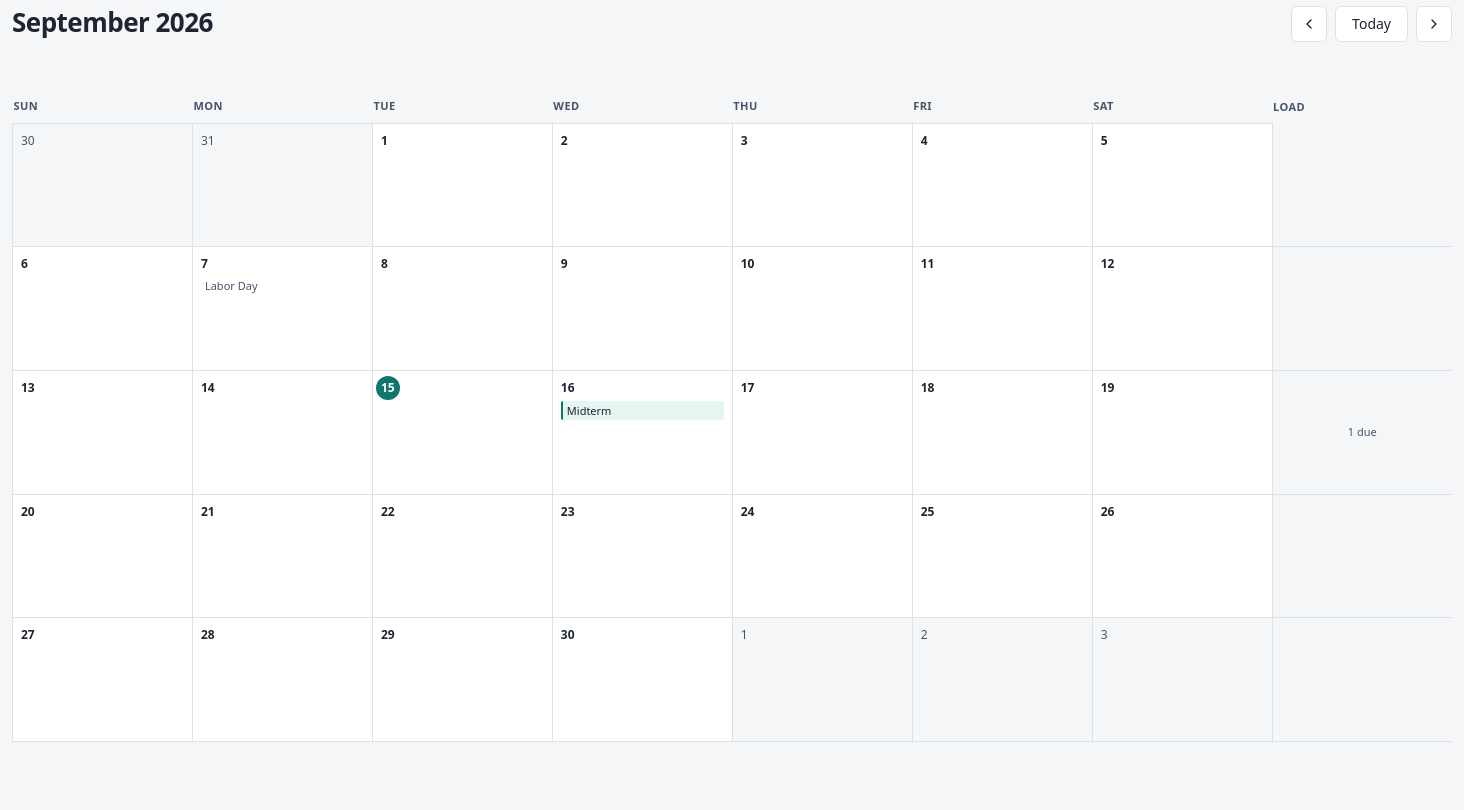
Test: AC-21.3 moving to the next month shows that month and its items
The width and height of the screenshot is (1464, 810).
Click the button named "next month": (1434, 24) [1416,6,1452,42]
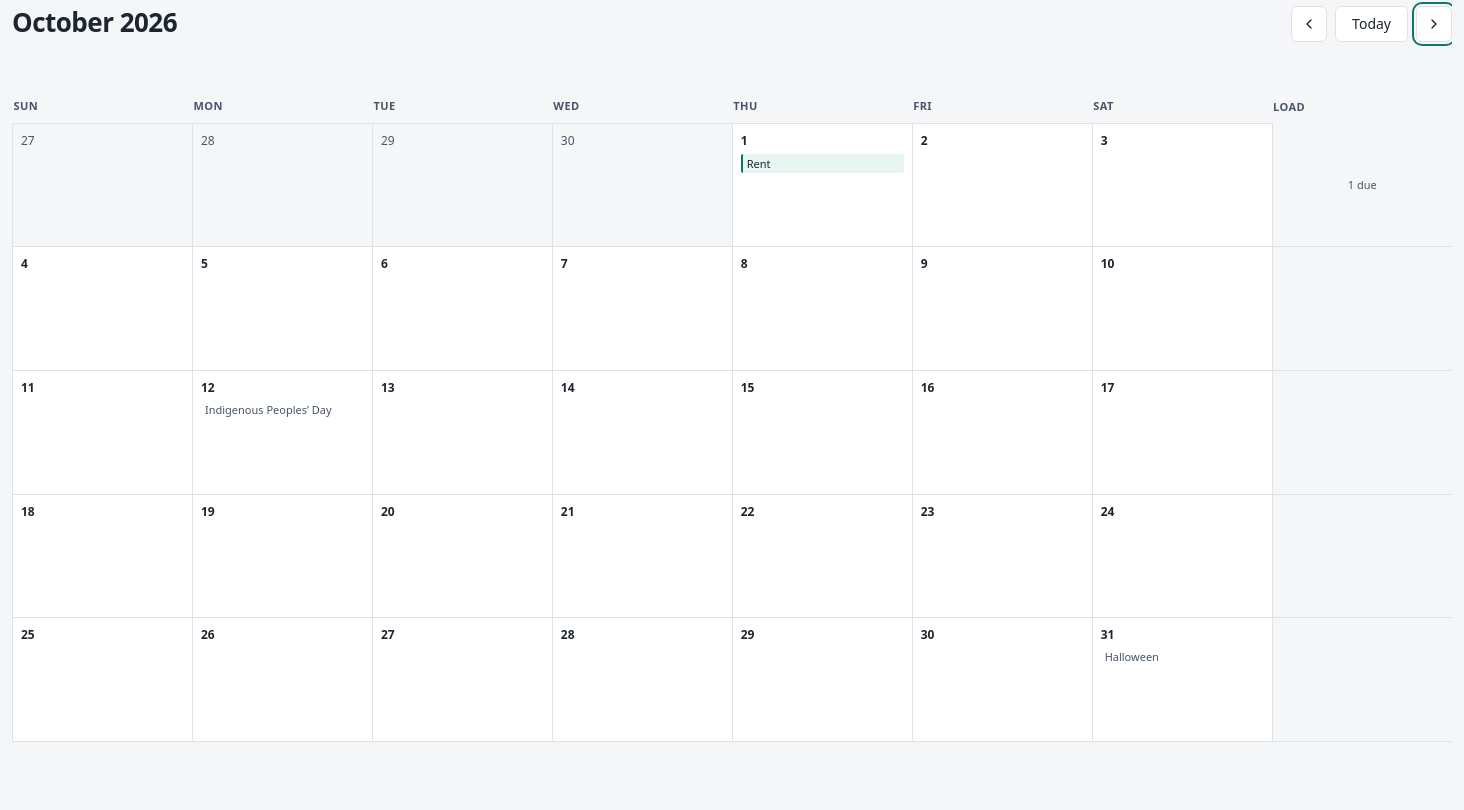
expect the heading "October 2026" is shown: met, box [12,8,177,38]
expect the button "Rent" is shown: met, box [741,154,904,173]
expect the button "Midterm" is gone: met
